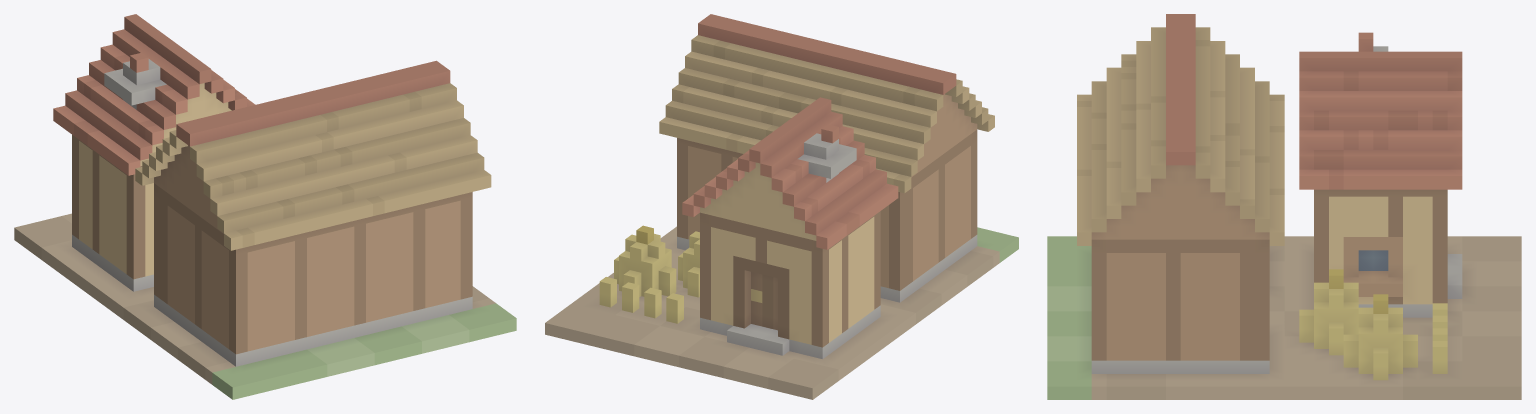
The model's file is wheat_farm.glb.
3 views of the same model, side by side, from view 1: azimuth 30°, elevation 25°; view 2: azimuth 150°, elevation 25°; view 3: azimuth 270°, elevation 25° (orthographic). The views are drawn at different scales.
Parts seen in each view (by area): view 1: wheat_farm; view 2: wheat_farm; view 3: wheat_farm.
Part boxes in pixels (x1,y1,x2,y2): wheat_farm: [14, 14, 516, 399]; wheat_farm: [545, 14, 1018, 399]; wheat_farm: [1047, 14, 1521, 399].
Bounding box in the file's own units: 3 × 2.25 × 4.
